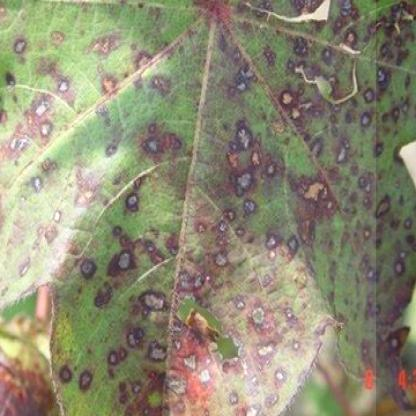black-spot: (0, 0, 376, 416)
